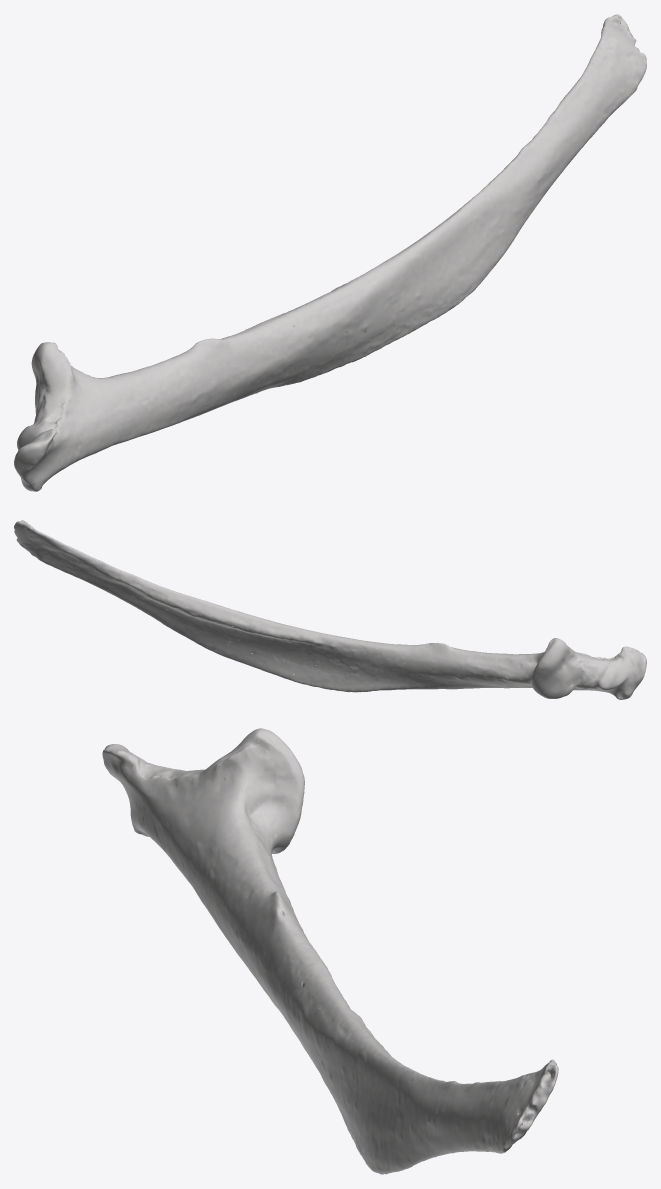
3 views of the same model, one above another, from view 1: azimuth 30°, elevation 25°; view 2: azimuth 150°, elevation 25°; view 3: azimuth 270°, elevation 25° (orthographic). The views are drawn at different scales.
Parts seen in each view (by area): view 1: Scapula_li_Huhn.001; view 2: Scapula_li_Huhn.001; view 3: Scapula_li_Huhn.001.
Boxes of the visible parts, x1,y1,x2,y2 form: Scapula_li_Huhn.001: (14,14,646,491); Scapula_li_Huhn.001: (14,520,646,699); Scapula_li_Huhn.001: (102,728,558,1174).
Bounding box in the file's own units: 7421 × 1949 × 2763.
1 material, 1 textured.
